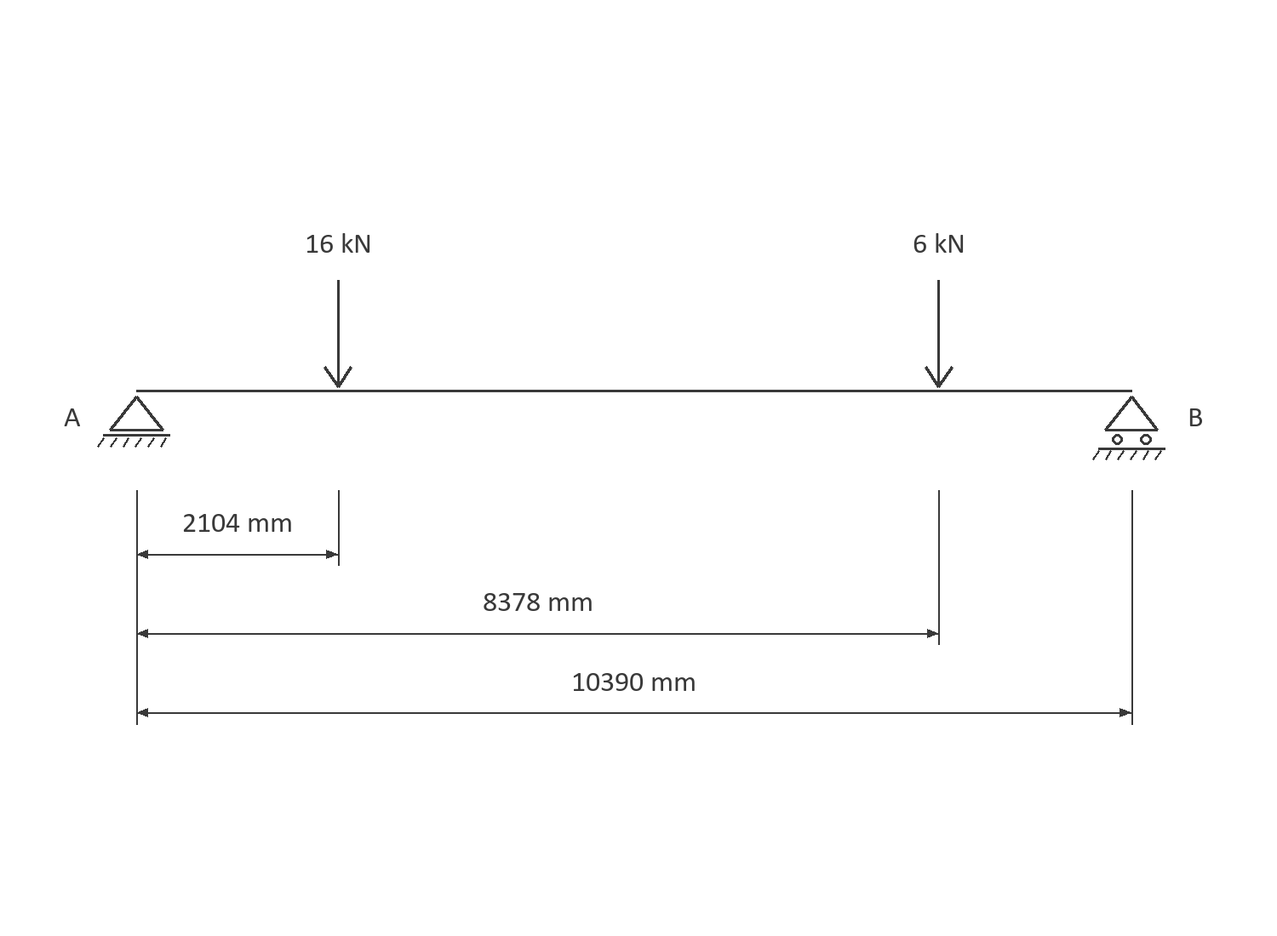pin_support: (97, 396, 170, 448)
point_load: (324, 280, 352, 388), (925, 280, 953, 388)
roller_support: (1092, 396, 1165, 460)
